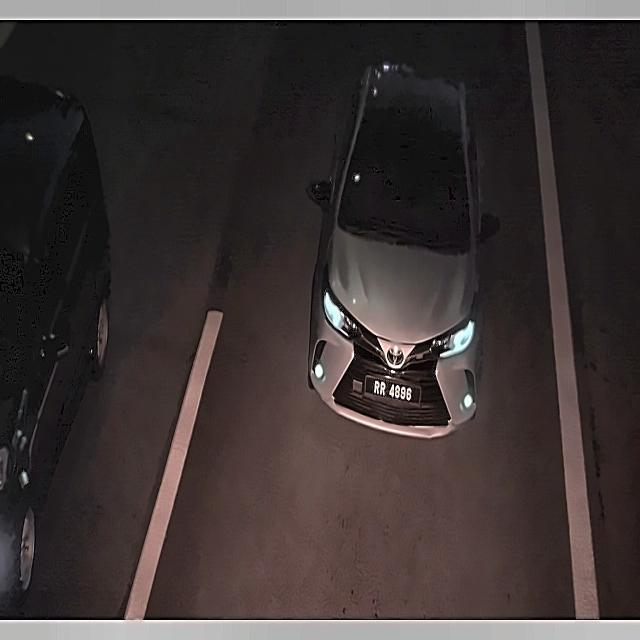car: (362, 368, 426, 413)
